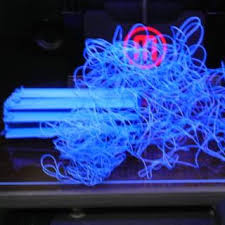fail: (74, 14, 225, 173), (29, 111, 178, 185)
